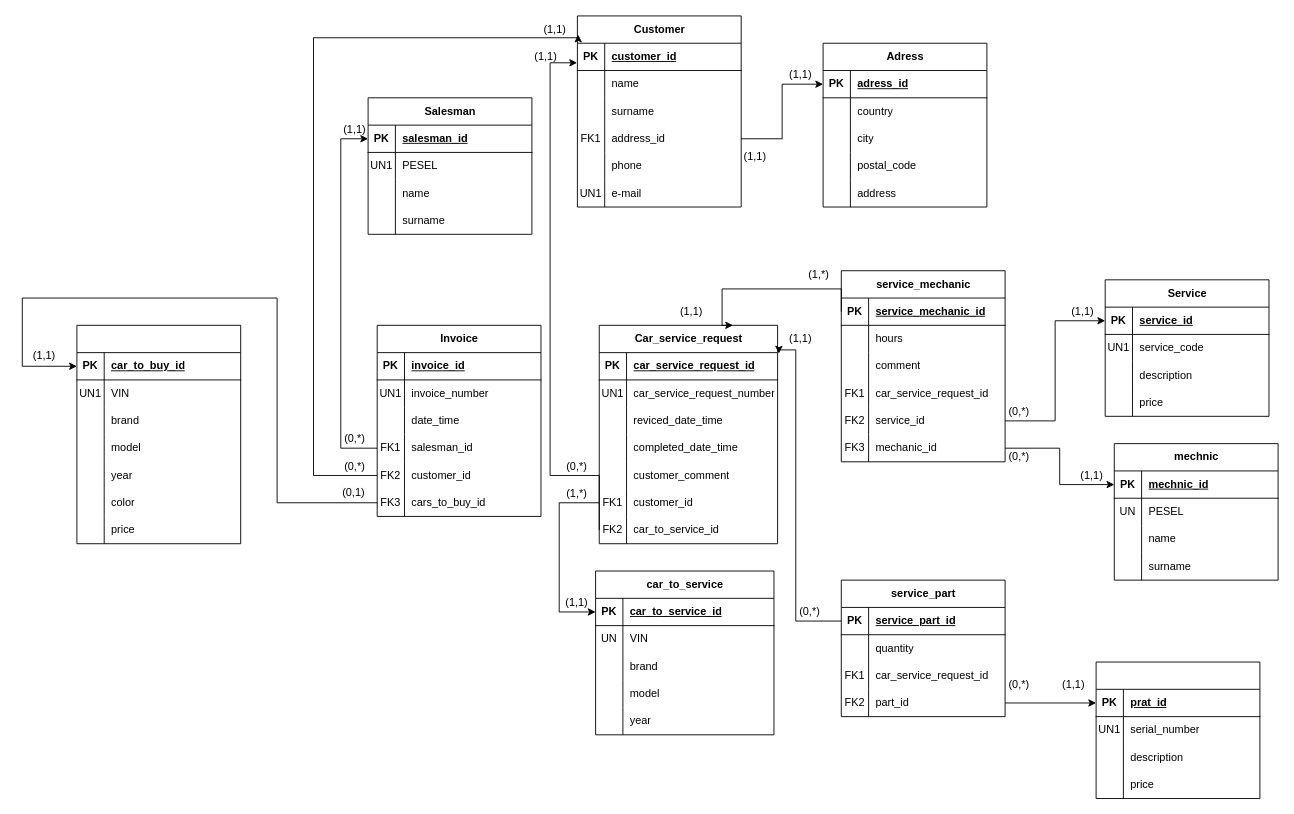
The diagram is 1294 pixels wide and 814 high, and some of its shapes have lost their labels. The box of each missing label's shape, as (x1, y1, x2, y2) in pixels:
Cars_to_buy: (76, 324, 241, 544)
part: (1095, 661, 1260, 799)
